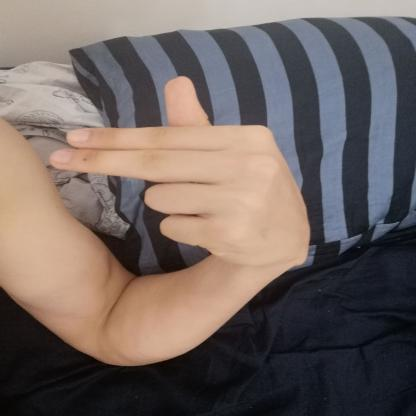GHAYN: (35, 66, 320, 280)
